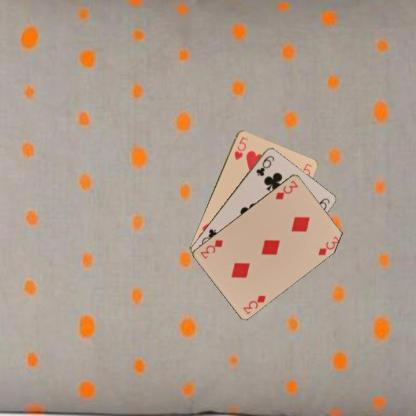3d: (240, 292, 267, 315), (273, 178, 299, 200)
5h: (232, 134, 249, 161)
6c: (254, 152, 276, 178)
